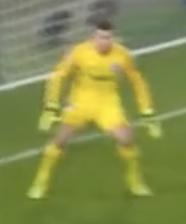goalkeeper: (18, 13, 178, 211)
